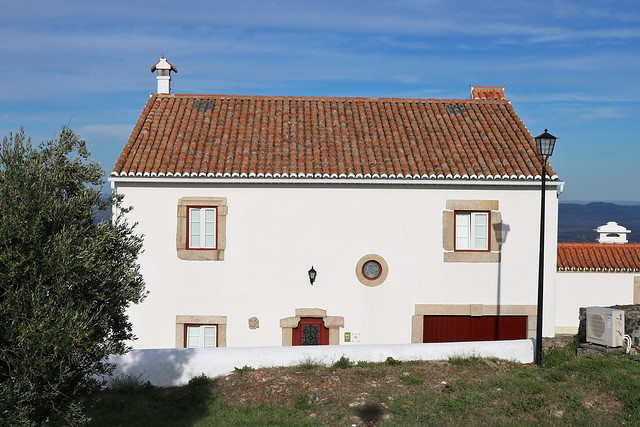medium: (100, 59, 562, 376)
